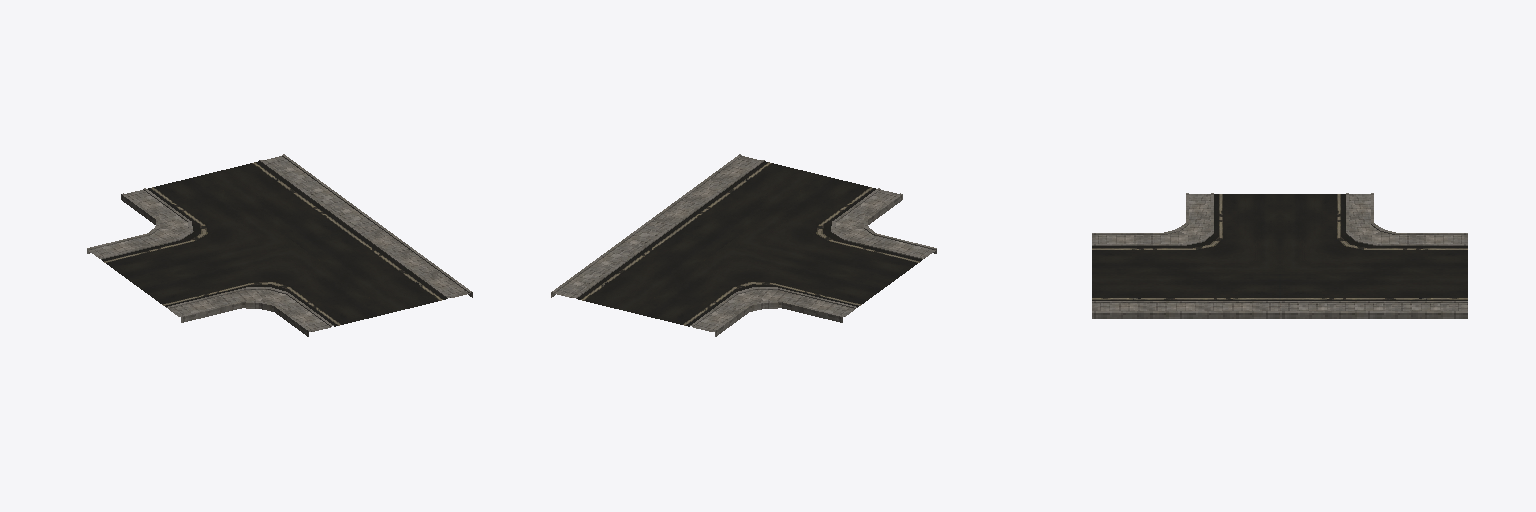
The picture shows the model from 3 angles: view 1: azimuth 30°, elevation 25°; view 2: azimuth 150°, elevation 25°; view 3: azimuth 270°, elevation 25°; orthographic projection.
Visible parts, largest first — view 1: 7_Road-Intersection-A; view 2: 7_Road-Intersection-A; view 3: 7_Road-Intersection-A.
Boxes of the visible parts, x1,y1,x2,y2 form: 7_Road-Intersection-A: [87, 154, 472, 336]; 7_Road-Intersection-A: [551, 154, 936, 336]; 7_Road-Intersection-A: [1092, 193, 1467, 318].
Bounding box in the file's own units: 0.9294 × 0.0219 × 1.24.
1 materials, 1 textured.